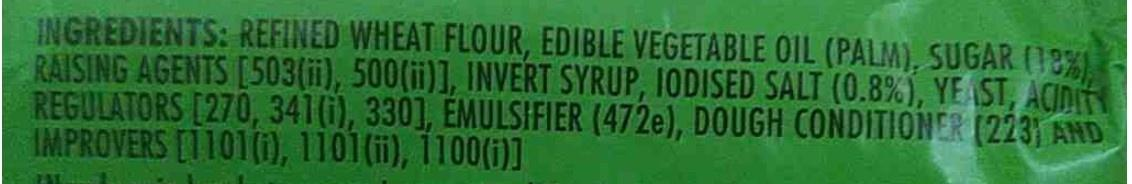ingredients: (20, 9, 1115, 173)
